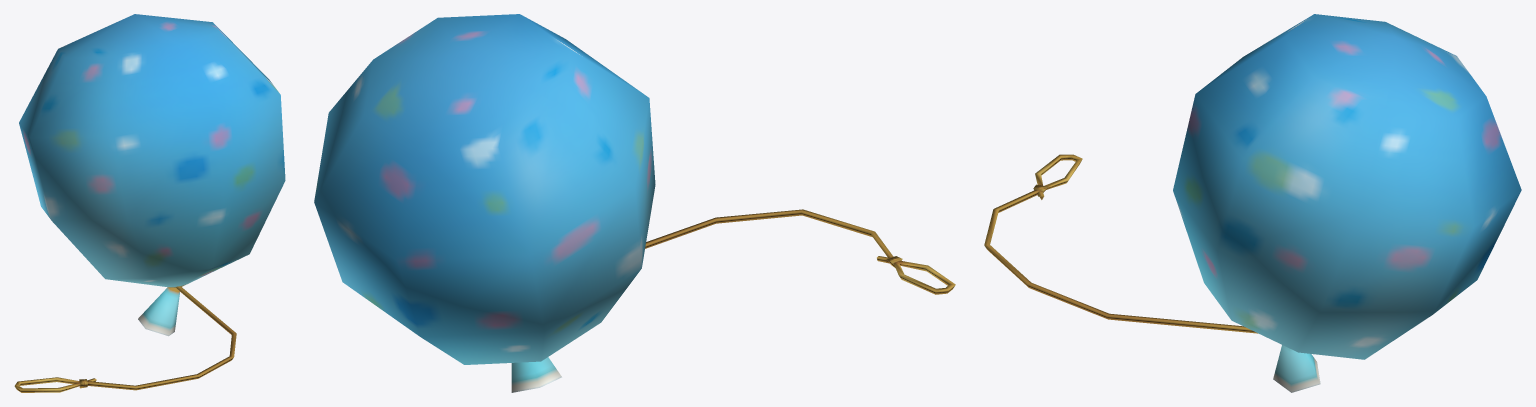
File: jsf_WaterBalloon_20_c.fbx
The picture shows the model from 3 angles, left to right: view 1: azimuth 30°, elevation 25°; view 2: azimuth 150°, elevation 25°; view 3: azimuth 270°, elevation 25°; orthographic projection. The views are drawn at different scales.
Visible parts, largest first — view 1: jsf_WaterBalloon_20_c; view 2: jsf_WaterBalloon_20_c; view 3: jsf_WaterBalloon_20_c.
Boxes of the visible parts, box(x1,y1,x2,y2) form: jsf_WaterBalloon_20_c: box(14, 14, 285, 392); jsf_WaterBalloon_20_c: box(314, 14, 955, 392); jsf_WaterBalloon_20_c: box(984, 14, 1521, 392).
Bounding box in the file's own units: 16.89 × 12.55 × 17.11.
